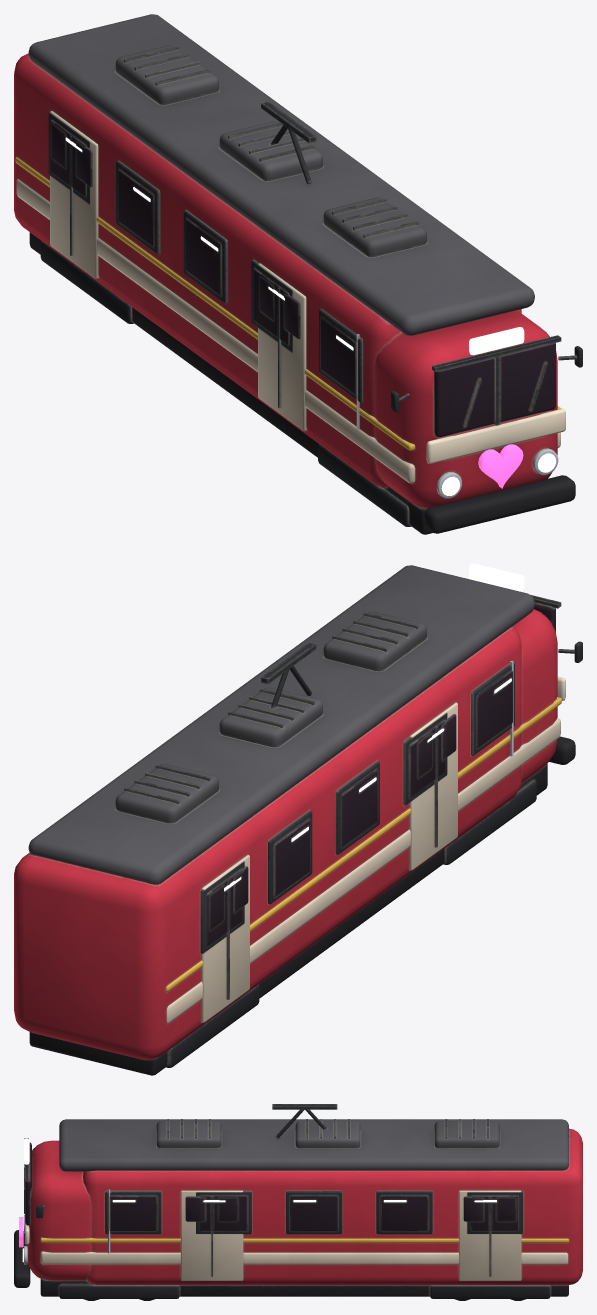
File: rr_train.glb
The picture shows the model from 3 angles, top to bottom: view 1: azimuth 30°, elevation 25°; view 2: azimuth 150°, elevation 25°; view 3: azimuth 270°, elevation 25°; orthographic projection. The views are drawn at different scales.
Parts seen in each view (by area): view 1: rr_train; view 2: rr_train; view 3: rr_train.
Part boxes in pixels (x1,y1,x2,y2): rr_train: (14, 14, 582, 534); rr_train: (14, 563, 582, 1075); rr_train: (14, 1104, 582, 1300).
Bounding box in the file's own units: 3.14 × 4.34 × 12.28.
11 materials, 11 textured.
